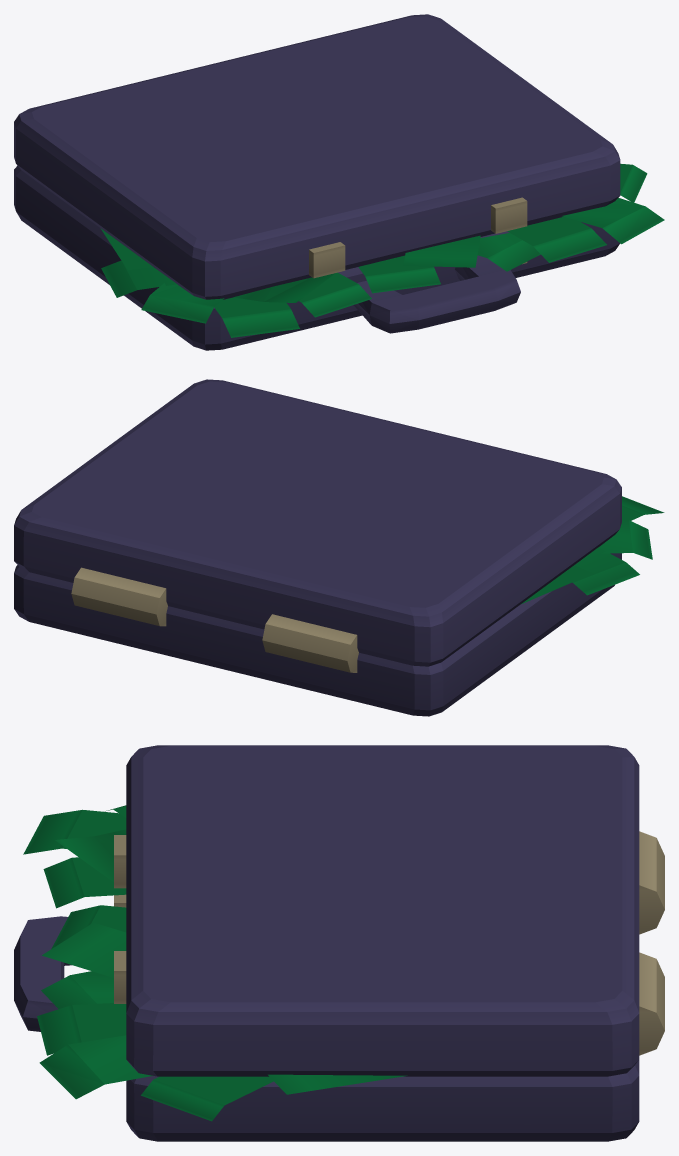
The model's file is x_money_suitcase.fbx.
3 views of the same model, one above another, from view 1: azimuth 30°, elevation 25°; view 2: azimuth 150°, elevation 25°; view 3: azimuth 270°, elevation 25° (orthographic). The views are drawn at different scales.
Visible parts, largest first — view 1: t_money_suitcase_baked; view 2: t_money_suitcase_baked; view 3: t_money_suitcase_baked.
Boxes of the visible parts, x1,y1,x2,y2 form: t_money_suitcase_baked: [14, 14, 664, 350]; t_money_suitcase_baked: [14, 379, 664, 716]; t_money_suitcase_baked: [14, 745, 664, 1141].
Size of the model in its own units: 0.5571 by 0.1079 by 0.4585.
